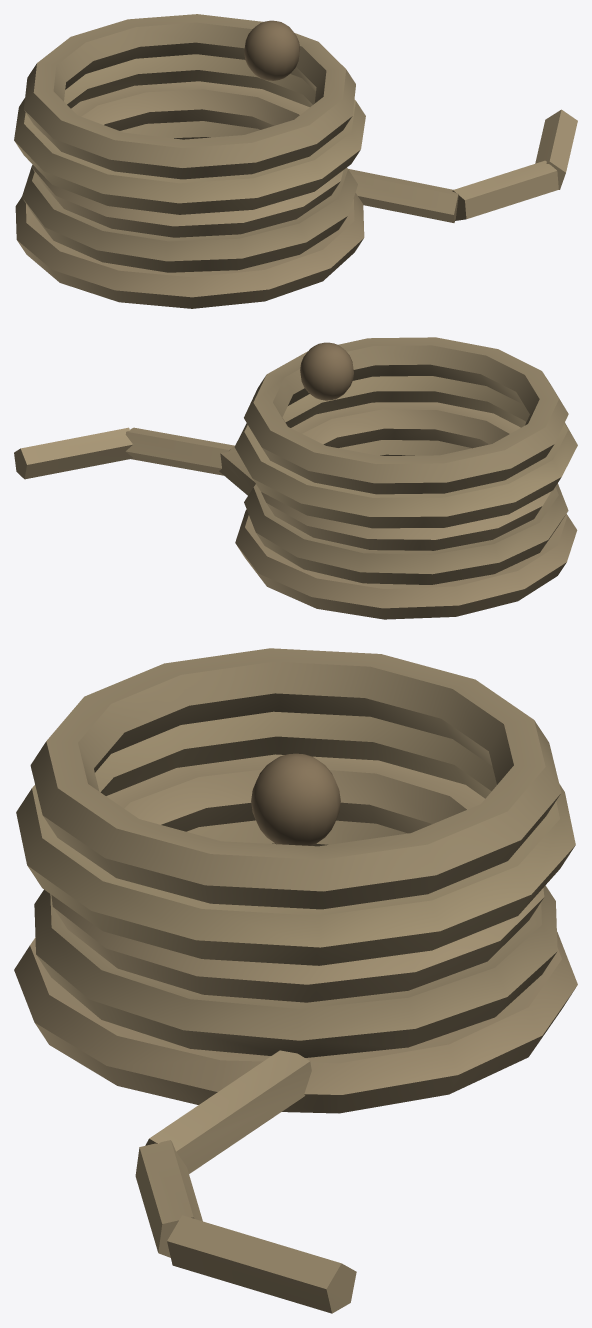
File: rope_coil_a.glb
3 views of the same model, one above another, from view 1: azimuth 30°, elevation 25°; view 2: azimuth 150°, elevation 25°; view 3: azimuth 270°, elevation 25° (orthographic). The views are drawn at different scales.
Parts seen in each view (by area): view 1: Surface; view 2: Surface; view 3: Surface.
Part boxes in pixels (bbox=[...]): Surface: bbox=[14, 14, 577, 308]; Surface: bbox=[14, 337, 577, 619]; Surface: bbox=[14, 648, 577, 1313].
Bounding box in the file's own units: 2.21 × 0.7759 × 1.24.
